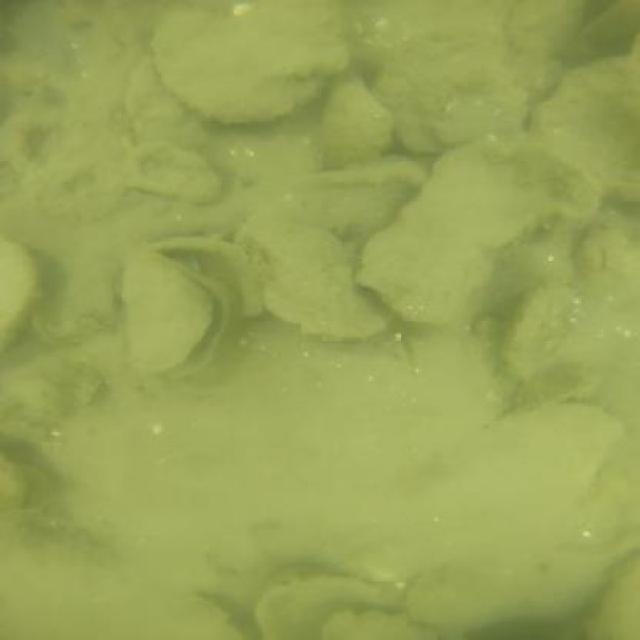Oyster-Indeterminate: (361, 145, 579, 329), (157, 6, 347, 122), (238, 220, 388, 338), (378, 34, 526, 149), (407, 562, 613, 634), (255, 578, 402, 639), (11, 154, 131, 221), (507, 282, 579, 379), (123, 144, 227, 203), (321, 76, 390, 163), (509, 0, 592, 56), (0, 238, 33, 345), (321, 610, 434, 639), (593, 575, 640, 640), (1, 459, 27, 505)
Oyster-Open: (122, 254, 230, 379)
